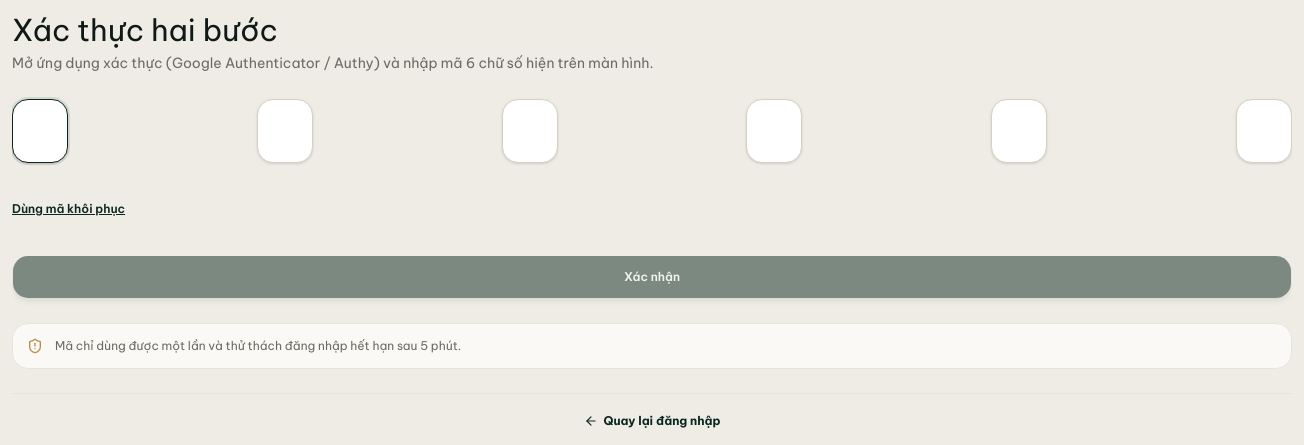
AdminTwoFactorCard › still replaces a single digit when typing over it
In the field named "Chữ số thứ 1": (40, 131) [12, 99, 68, 163], type "1"
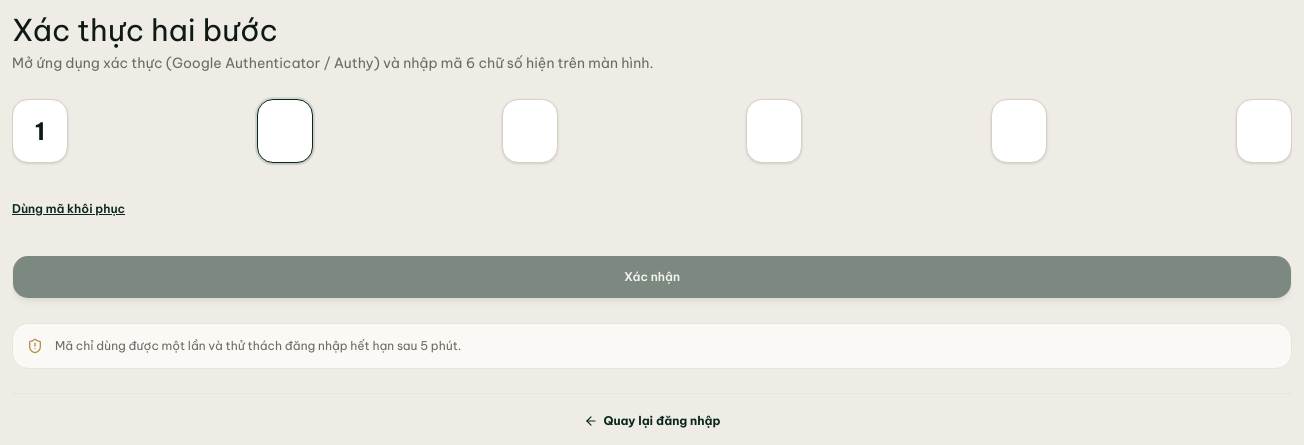
Replace the text in the field named "Chữ số thứ 1" with "12": (40, 131) [12, 99, 68, 163]
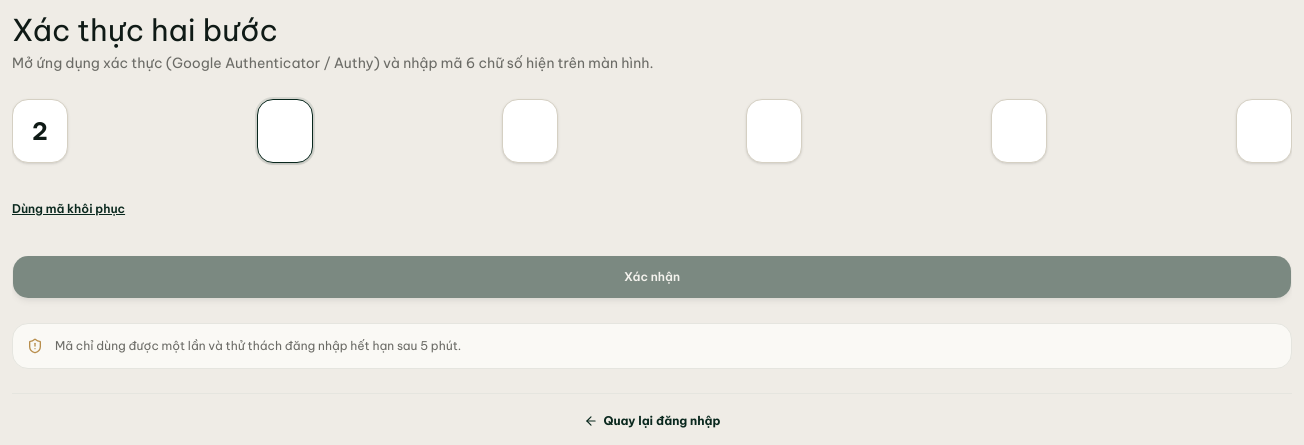
Expected: the field named "Chữ số thứ 1" holds "2", [12, 99, 68, 163]
